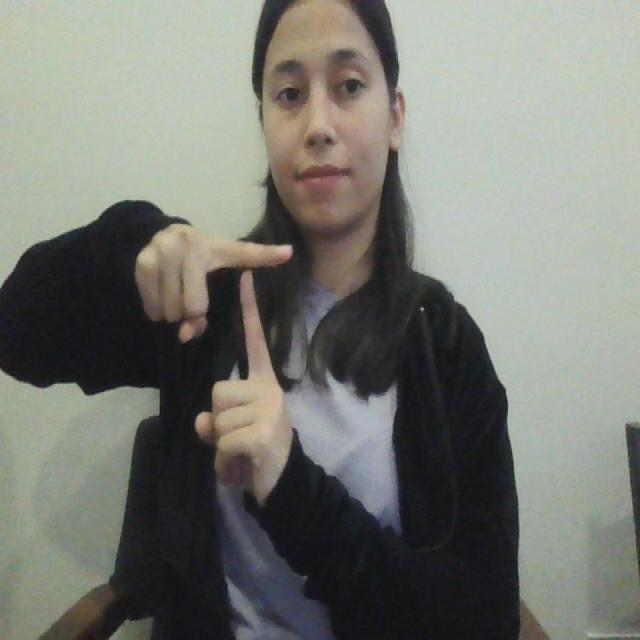Tesekkurler: (204, 224, 300, 395)
